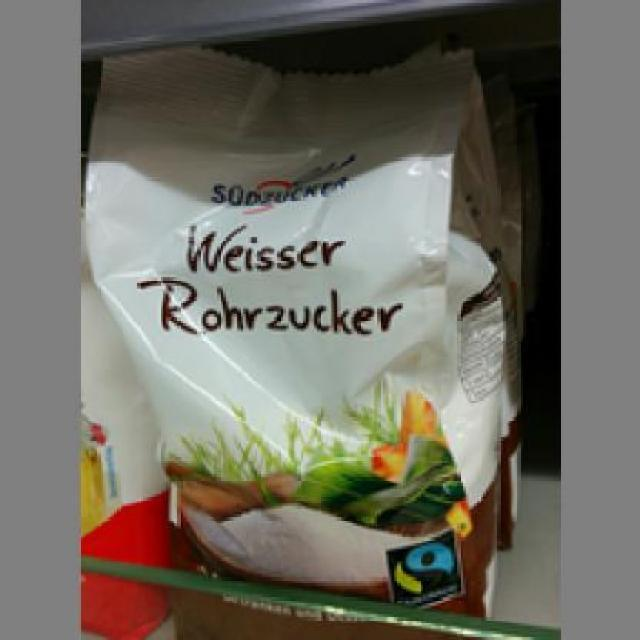Sugar: (82, 45, 512, 638)
